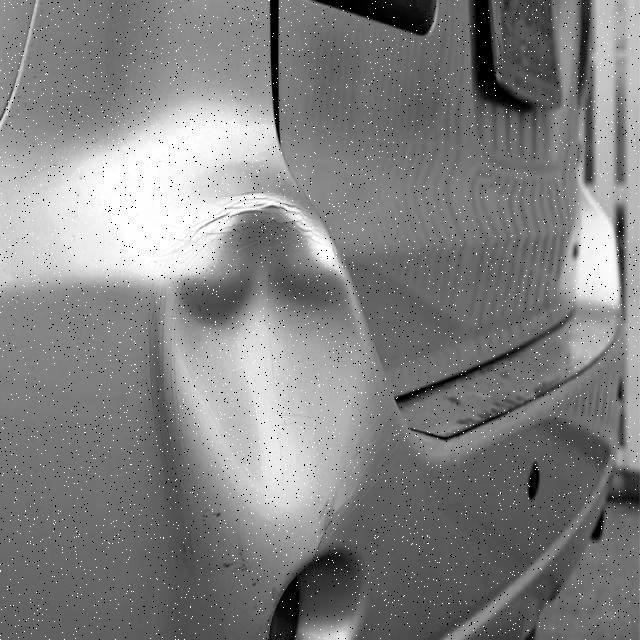rear-bumper-dent: (1, 173, 640, 639)
